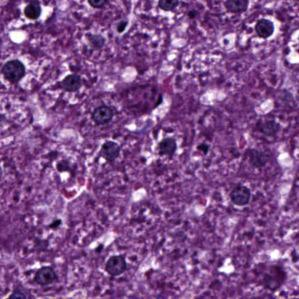inflammation: (0, 54, 28, 85), (22, 0, 45, 22), (61, 72, 83, 90)
